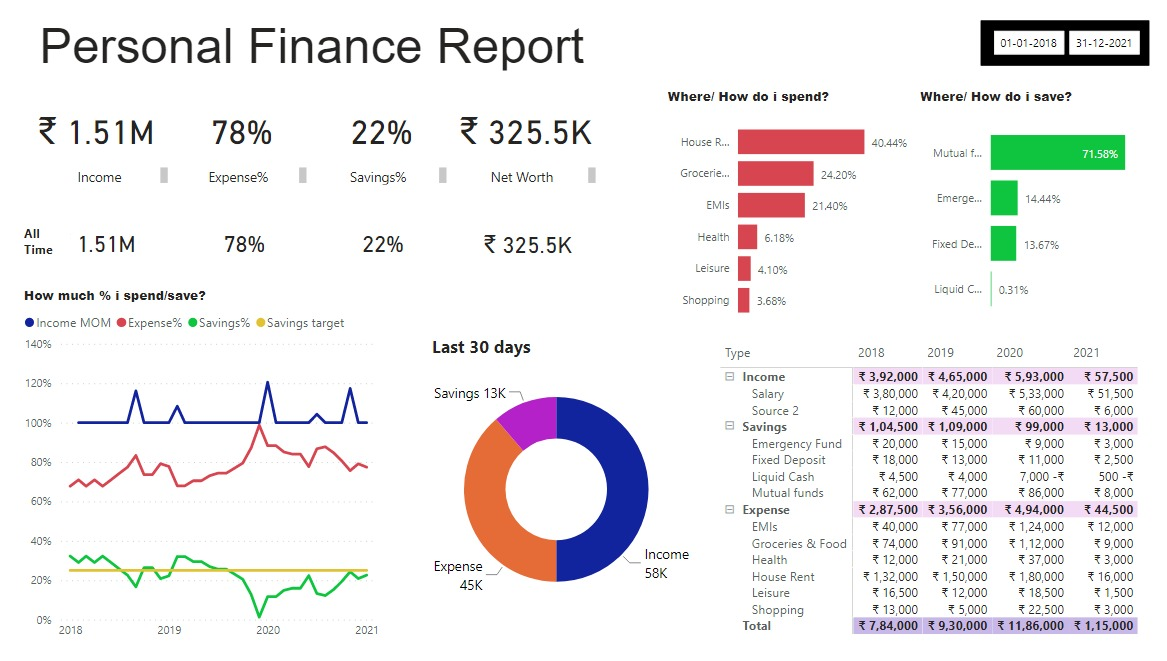

The dashboard page shown, as its layout file describes it:
{"tool":"powerbi","page":{"name":"Fin Dashboard","canvas":[1280,720],"ordinal":0},"visuals":[{"type":"card","fields":{"Values":["Key Measures.Total Income"]},"box":[29.4,95.9,165.6,92],"z":0},{"type":"card","fields":{"Values":["Key Measures.Expense%"]},"box":[195,95.9,150.9,92],"z":1000},{"type":"card","fields":{"Values":["Key Measures.Savings%"]},"box":[345.8,95.9,150.9,92],"z":2000},{"type":"card","fields":{"Values":["Key Measures.Total Savings"]},"box":[496.7,95.9,161.9,92],"z":3000},{"type":"textbox","box":[44.1,178,150.9,28.2],"z":4000},{"type":"textbox","box":[345.8,178,150.9,28.2],"z":5000},{"type":"textbox","box":[195,178,150.9,28.2],"z":6000},{"type":"textbox","box":[496.7,178,161.9,28.2],"z":7000},{"type":"slicer","fields":{"Values":["FinData.Date"]},"box":[1070.3,24.4,182.7,48.7],"z":8000},{"type":"card","fields":{"Values":["Key Measures.Total Income"]},"box":[30.2,219.3,166.8,92],"z":9000},{"type":"card","fields":{"Values":["Key Measures.Expense%"]},"box":[197,218.8,150.9,92],"z":10000},{"type":"card","fields":{"Values":["Key Measures.Savings%"]},"box":[347.9,218.8,150.9,92],"z":11000},{"type":"card","fields":{"Values":["Key Measures.Total Savings"]},"box":[498.8,220.6,160.7,92],"z":12000},{"type":"card","fields":{"Values":["Key Measures.Title"]},"box":[40.6,12.2,611.6,71.7],"z":13000},{"type":"textbox","box":[29.3,241.3,54.9,53.6],"z":14000},{"type":"clusteredBarChart","title":"Where/ How do i spend?","fields":{"Category":["FinData.Component"],"Y":["Key Measures.Total Expense"]},"box":[726.6,97.4,273.3,262.5],"z":15000},{"type":"clusteredBarChart","title":"Where/ How do i save?","fields":{"Category":["FinData.Component"],"Y":["Key Measures.Total Savings"]},"box":[999.9,97.4,272,262.5],"z":16000},{"type":"lineChart","title":"How much % i spend/save?","fields":{"Y":["Key Measures.Income MOM","Key Measures.Expense%","Key Measures.Savings%","Key Measures.Savings target"],"Category":["FinData.Date"]},"box":[29.8,312.6,393.7,391],"z":17000},{"type":"pivotTable","fields":{"Values":["Key Measures.Value"],"Columns":["FinData.Year","FinData.Date"],"Rows":["Type.Type","FinData.Component"]},"box":[783.4,369.4,469.5,334.2],"z":18000},{"type":"donutChart","fields":{"Y":["Key Measures.Income RM","Key Measures.Expense RM","Key Measures.Savings RM"]},"box":[438.4,380.2,345,303.1],"z":19000},{"type":"textbox","box":[458.7,359.9,142.1,35.2],"z":20000}]}

Visuals, with their boxes in screenshot pixels (x1, y1, x2, y2), scaled from the page's 1280x720 canvas onto the 1167x661 screenshot:
card - Key Measures.Total Income: 27/88/178/173
card - Key Measures.Expense%: 178/88/315/173
card - Key Measures.Savings%: 315/88/453/173
card - Key Measures.Total Savings: 453/88/600/173
textbox: 40/163/178/189
textbox: 315/163/453/189
textbox: 178/163/315/189
textbox: 453/163/600/189
slicer - FinData.Date: 976/22/1142/67
card - Key Measures.Total Income: 28/201/180/286
card - Key Measures.Expense%: 180/201/317/285
card - Key Measures.Savings%: 317/201/455/285
card - Key Measures.Total Savings: 455/203/601/287
card - Key Measures.Title: 37/11/595/77
textbox: 27/222/77/271
"Where/ How do i spend?" clusteredBarChart: 662/89/912/330
"Where/ How do i save?" clusteredBarChart: 912/89/1160/330
"How much % i spend/save?" lineChart: 27/287/386/646
pivotTable - Key Measures.Value x FinData.Year: 714/339/1142/646
donutChart - Key Measures.Income RM x Key Measures.Expense RM: 400/349/714/627
textbox: 418/330/548/363
